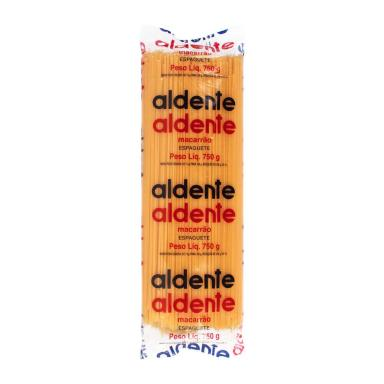pasta package: (141, 27, 243, 358)
